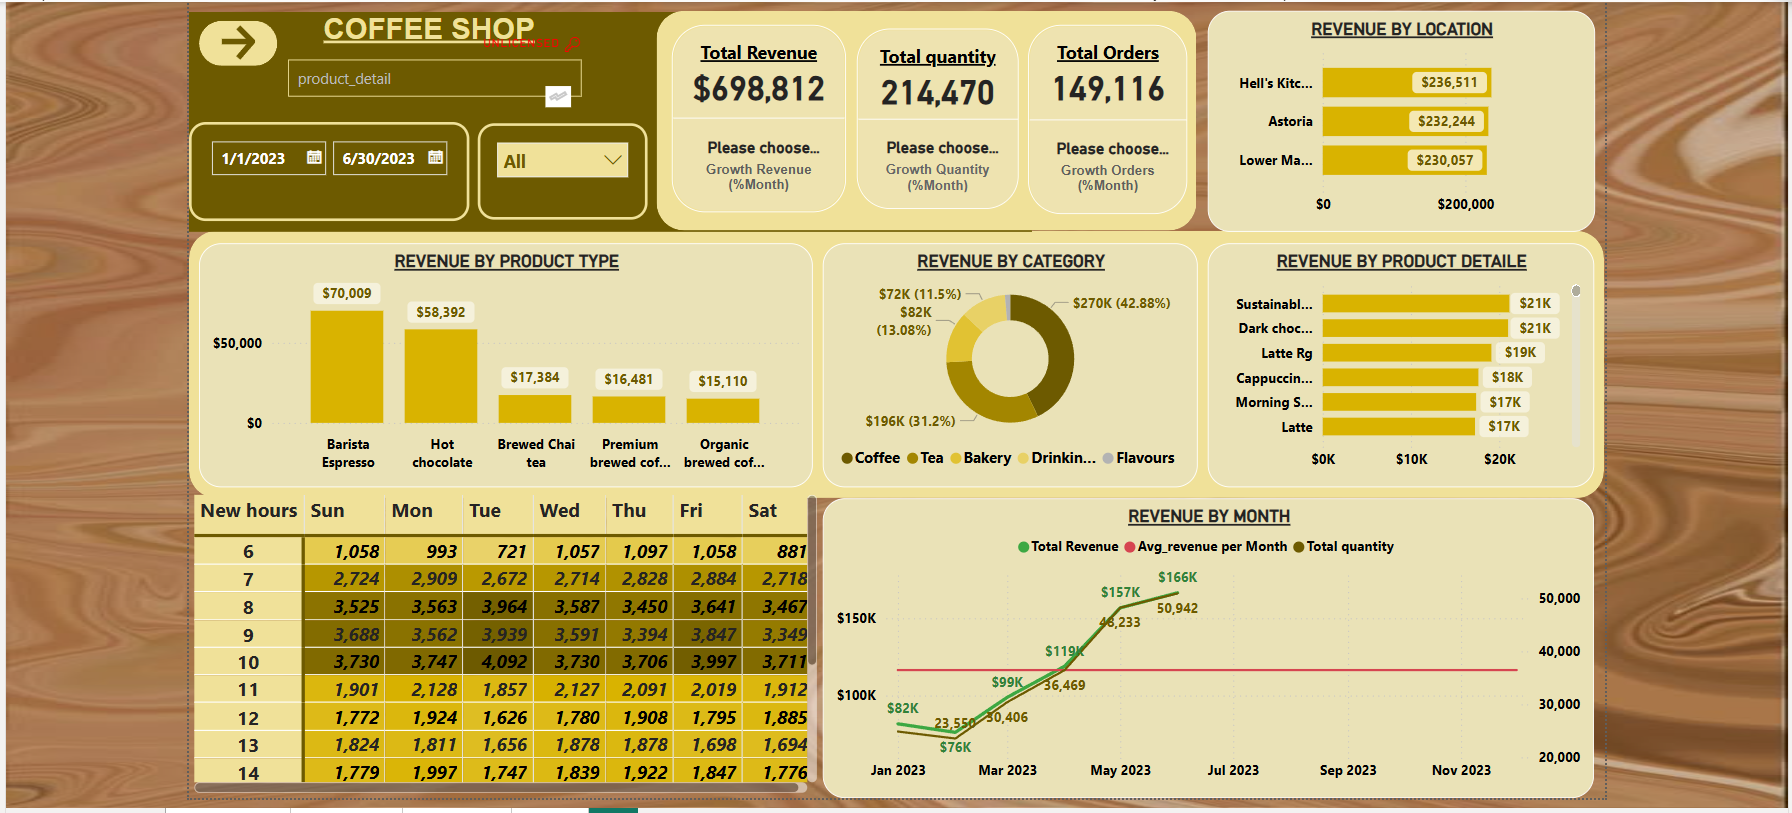

What the dashboard file says about the page in this screenshot:
{"tool":"powerbi","page":{"name":"Dashboard","canvas":[1280,720],"ordinal":0},"visuals":[{"type":"shape","box":[8.6,16.8,70.8,40.9],"z":0,"group":"g1"},{"type":"shape","box":[0,206.9,1279.9,242],"z":0},{"type":"shape","box":[0,9.3,762.8,198.8],"z":1000},{"type":"actionButton","box":[23,16.8,45.6,39.6],"z":1000,"group":"g1"},{"type":"lineChart","title":"REVENUE BY MONTH","fields":{"Y":["Sales.Total Revenue","Sales.Avg_revenue per Month"],"Y2":["Sales.Total quantity"],"Category":["Date.Date.Variation.Date Hierarchy.Year","Date.Date.Variation.Date Hierarchy.Quarter","Date.Date.Variation.Date Hierarchy.Month","Date.Date.Variation.Date Hierarchy.Day"]},"box":[573.2,448.9,697.6,271.4],"z":2000},{"type":"donutChart","title":"REVENUE BY CATEGORY","fields":{"Category":["Sales.product_category"],"Y":["Sales.Total Revenue"]},"box":[573.2,218.2,339.2,220.5],"z":3000},{"type":"clusteredBarChart","title":"REVENUE BY PRODUCT DETAILE","fields":{"Y":["Sales.Total Revenue"],"Category":["Sales.product_detail"]},"box":[921.5,218.2,349.4,220.5],"z":4000},{"type":"columnChart","title":"REVENUE BY PRODUCT TYPE","fields":{"Y":["Sales.Total Revenue"],"Category":["Sales.product_type"]},"box":[9,218.2,555.2,220.5],"z":5000},{"type":"clusteredBarChart","title":"REVENUE BY LOCATION","fields":{"Category":["Sales.store_location"],"Y":["Sales.Total Revenue"]},"box":[920.9,8.1,350,200],"z":6000},{"type":"pivotTable","fields":{"Columns":["Date.WeekDay_text"],"Rows":["Sales.New hours"],"Values":["Sales.Total quantity"]},"box":[0,440.7,573.3,279.1],"z":7000},{"type":"shape","box":[423.3,8.1,488.4,198.8],"z":8000},{"type":"slicer","fields":{"Values":["Date.Date"]},"box":[0,108.1,253.5,89.5],"z":9000},{"type":"slicer","fields":{"Values":["Date.Year","Date.Month_text"]},"box":[261.6,109.3,153.5,87.2],"z":10000},{"type":"textbox","box":[108.1,4.7,217.4,45.3],"z":11000},{"type":"SmartFilterProByOKViz00000000000000000000000000000000","fields":{"Values":["Sales.product_detail"]},"box":[84.9,19.8,277.9,81.4],"z":12000},{"type":"group","id":"g1","title":"Group 1","box":[8.6,16.8,70.8,40.9],"z":13000},{"type":"cardVisual","title":"Total Orders","fields":{"Data":["Sales.Total quantity","Sales.Growth Quantity (%Month)"]},"box":[598.8,19.8,157,173.3],"z":14000},{"type":"cardVisual","title":"Total Orders","fields":{"Data":["Sales.Total orders","Sales.Growth Orders (%Month)"]},"box":[754.7,16.3,154.7,181.4],"z":15000},{"type":"cardVisual","title":"Total Orders","fields":{"Data":["Sales.Total Revenue","Sales.Growth Revenue (%Month)"]},"box":[431.4,16.3,167.4,179.1],"z":16000}]}

Visuals, with their boxes on the page's 1280x720 design canvas (x1, y1, x2, y2). These are canvas units, not pixel positions in the 1792x813 screenshot, which may show the page scaled, cropped or inside an application window:
shape: left=9, top=17, right=79, bottom=58
shape: left=0, top=207, right=1280, bottom=449
shape: left=0, top=9, right=763, bottom=208
actionButton: left=23, top=17, right=69, bottom=56
"REVENUE BY MONTH" lineChart: left=573, top=449, right=1271, bottom=720
"REVENUE BY CATEGORY" donutChart: left=573, top=218, right=912, bottom=439
"REVENUE BY PRODUCT DETAILE" clusteredBarChart: left=922, top=218, right=1271, bottom=439
"REVENUE BY PRODUCT TYPE" columnChart: left=9, top=218, right=564, bottom=439
"REVENUE BY LOCATION" clusteredBarChart: left=921, top=8, right=1271, bottom=208
pivotTable - Date.WeekDay_text x Sales.New hours: left=0, top=441, right=573, bottom=720
shape: left=423, top=8, right=912, bottom=207
slicer - Date.Date: left=0, top=108, right=254, bottom=198
slicer - Date.Year x Date.Month_text: left=262, top=109, right=415, bottom=196
textbox: left=108, top=5, right=326, bottom=50
SmartFilterProByOKViz00000000000000000000000000000000 - Sales.product_detail: left=85, top=20, right=363, bottom=101
"Group 1" group: left=9, top=17, right=79, bottom=58
"Total Orders" cardVisual: left=599, top=20, right=756, bottom=193
"Total Orders" cardVisual: left=755, top=16, right=909, bottom=198
"Total Orders" cardVisual: left=431, top=16, right=599, bottom=195
